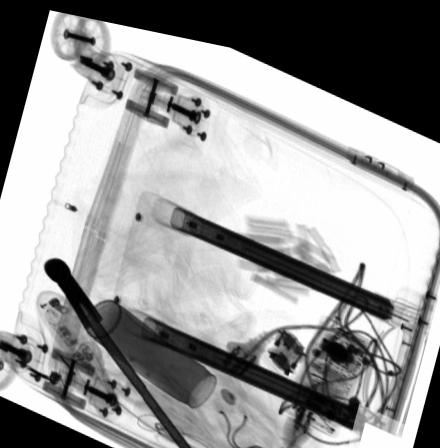Hammer: (42, 255, 198, 448)
